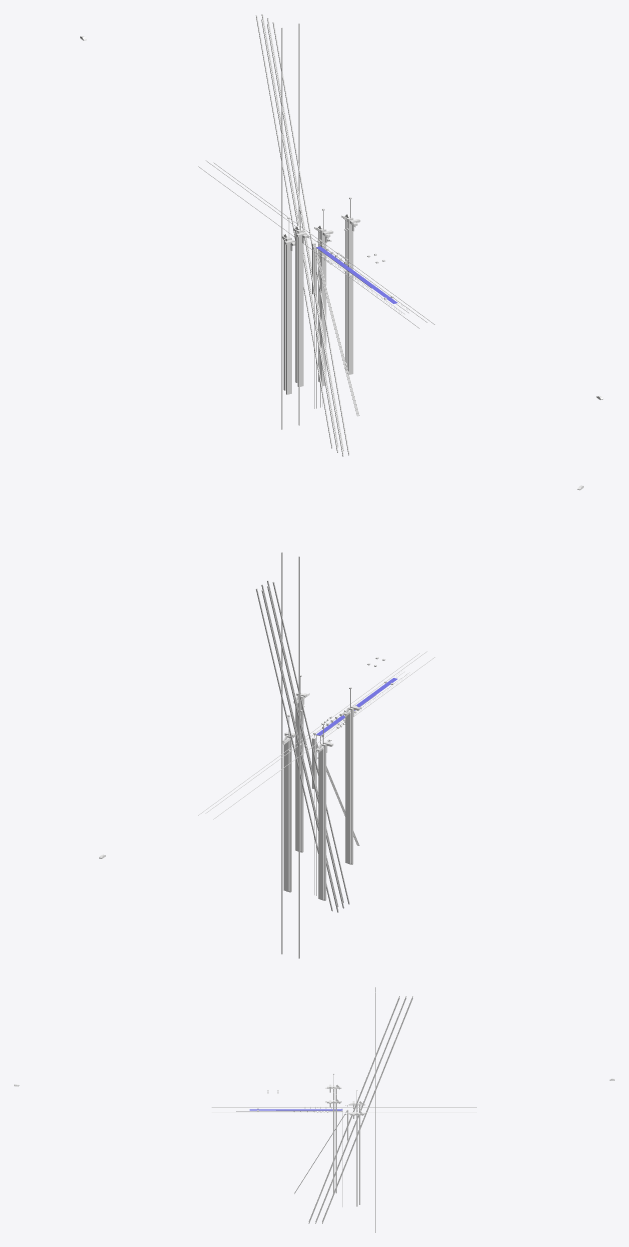
File: DefaultEnvironment.glb
3 renders of one model, top to bottom at view 1: azimuth 30°, elevation 25°; view 2: azimuth 150°, elevation 25°; view 3: azimuth 270°, elevation 25°, orthographic. The views are drawn at different scales.
Parts seen in each view (by area): view 1: CombinedMesh (×6); view 2: CombinedMesh (×6); view 3: CombinedMesh (×4).
Part boxes in pixels (bbox=[...]): CombinedMesh (×6): bbox=[198, 14, 434, 456]; CombinedMesh (×6): bbox=[198, 552, 434, 958]; CombinedMesh (×4): bbox=[211, 987, 476, 1232].
Bounding box in the file's own units: 395 × 400 × 905.
Materials: 9 (2 with a texture image).
